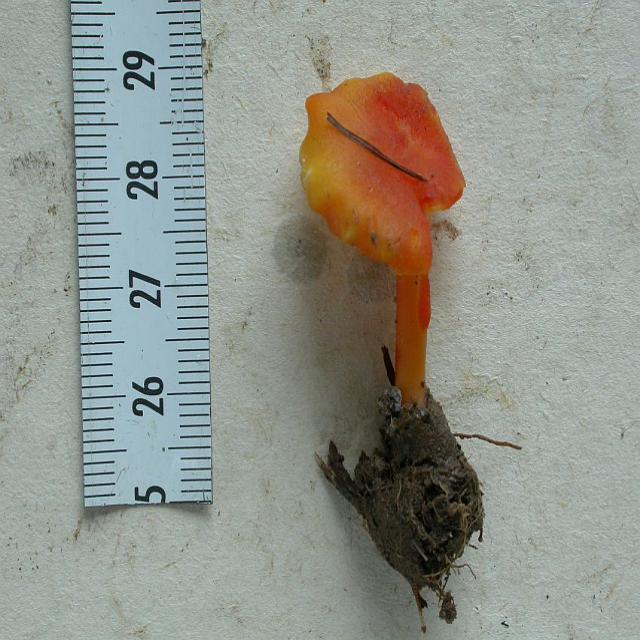Cantharellus cibarius: (299, 74, 483, 598)
